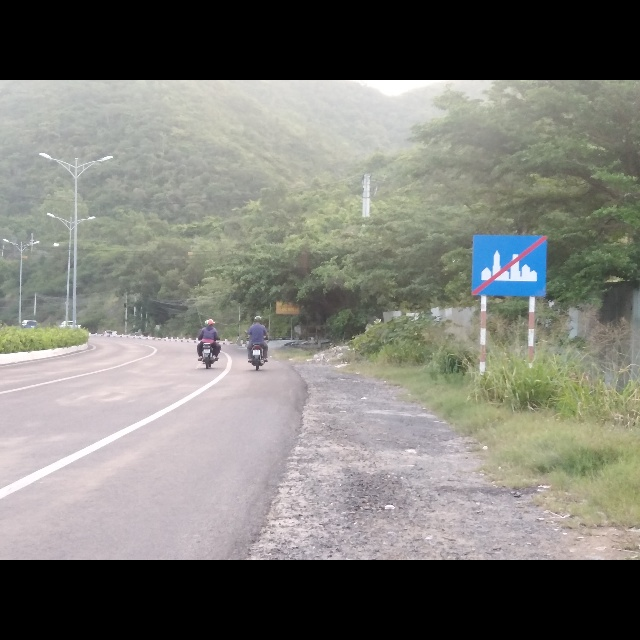Hết khu đông dân cư: (470, 232, 549, 299)
